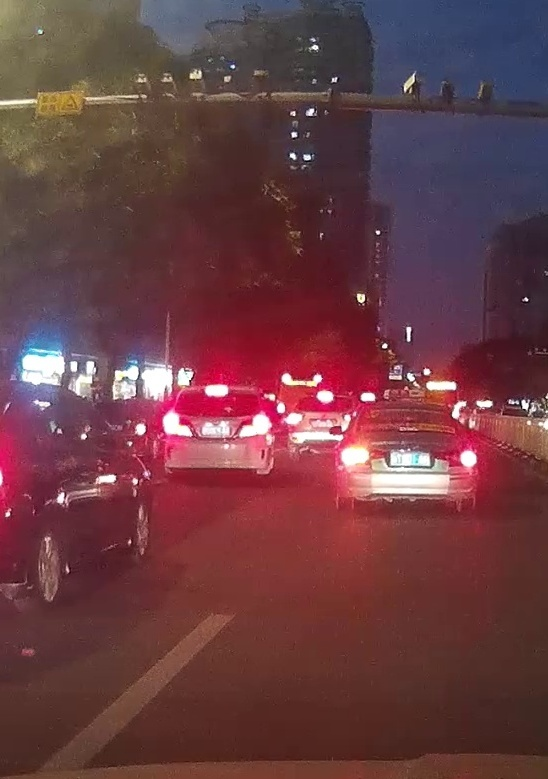L_light: (341, 447, 388, 466), (163, 413, 192, 437)
R_light: (436, 445, 477, 468), (238, 414, 272, 437)
T_light: (205, 385, 228, 397), (396, 408, 419, 412)
night-brake: (163, 385, 273, 487)
night-left: (340, 401, 477, 513)
